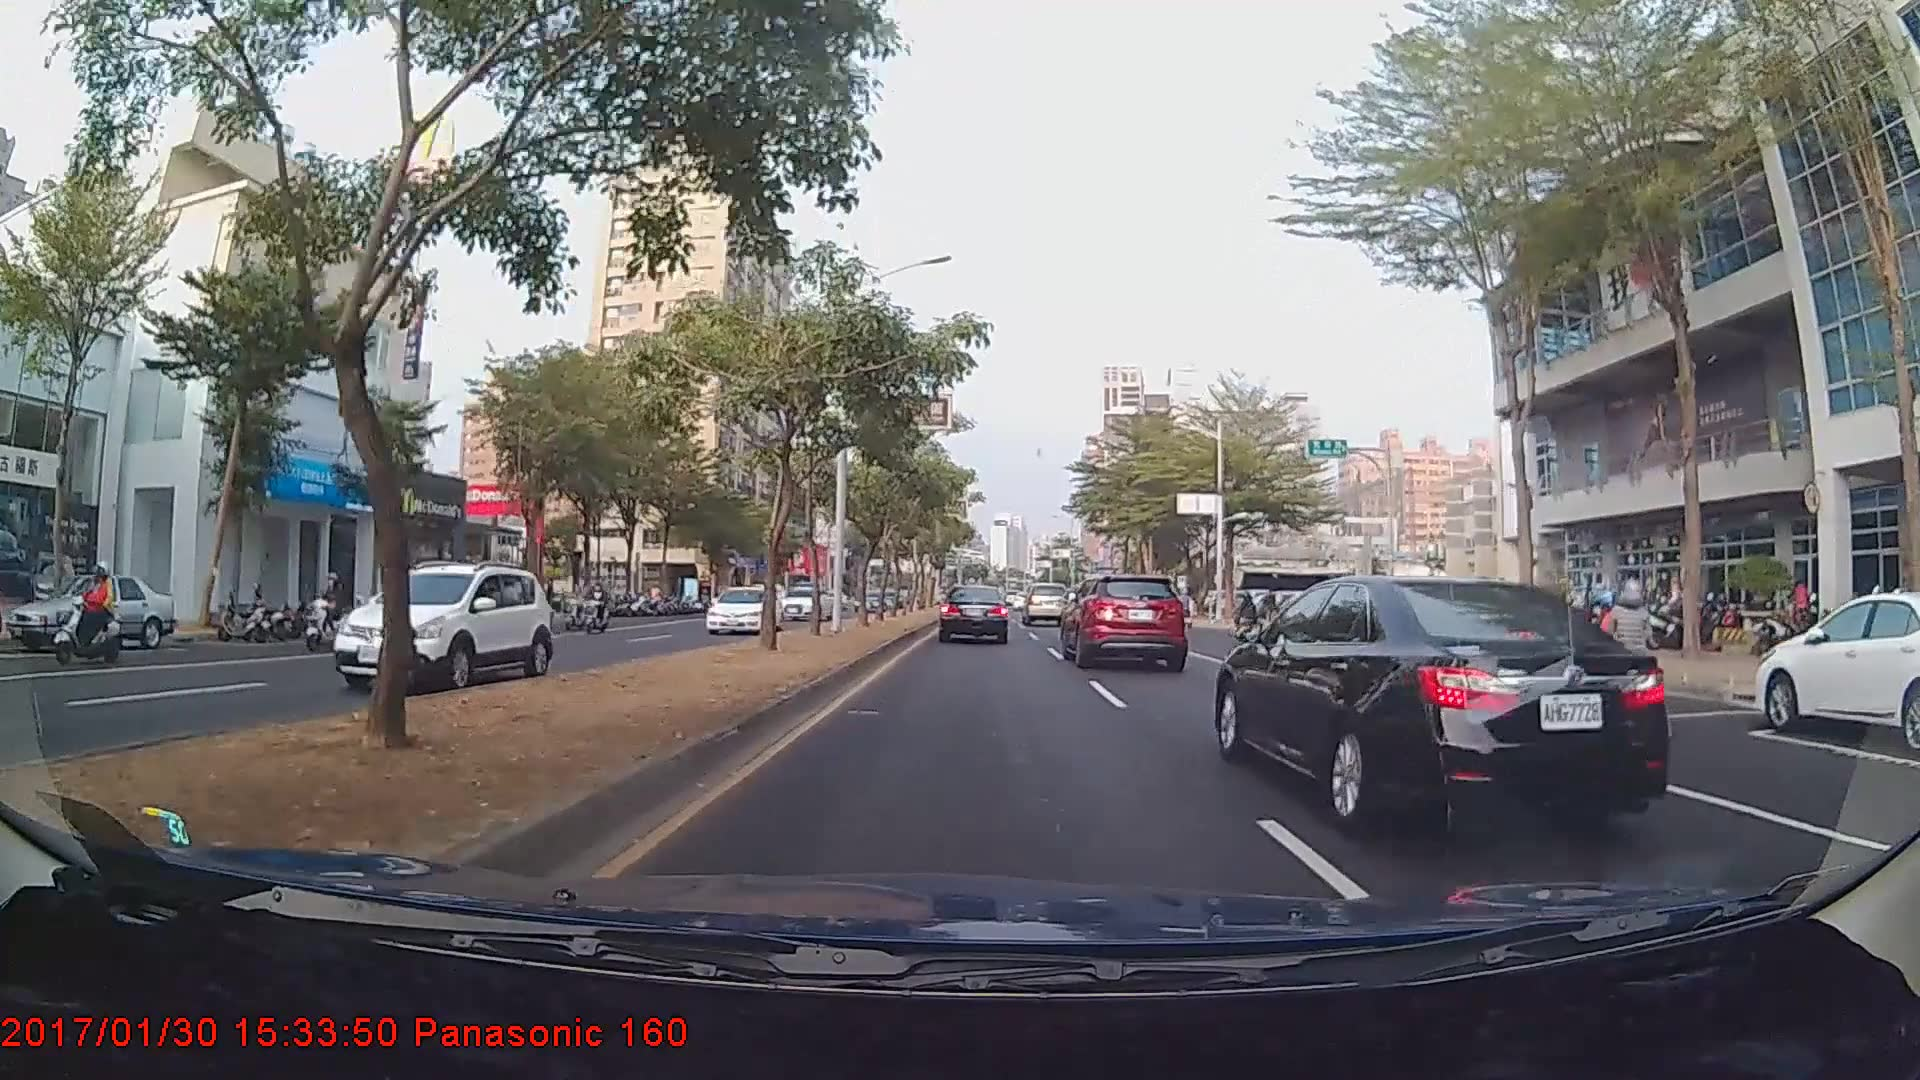rider: (1575, 576, 1664, 716), (45, 561, 132, 666), (303, 570, 363, 652)
vehicle: (1216, 561, 1652, 826), (328, 559, 560, 694), (1751, 589, 1920, 756), (4, 571, 173, 649), (1061, 572, 1188, 669), (938, 583, 1009, 645), (704, 585, 782, 635), (772, 586, 836, 622), (1021, 581, 1067, 627)
